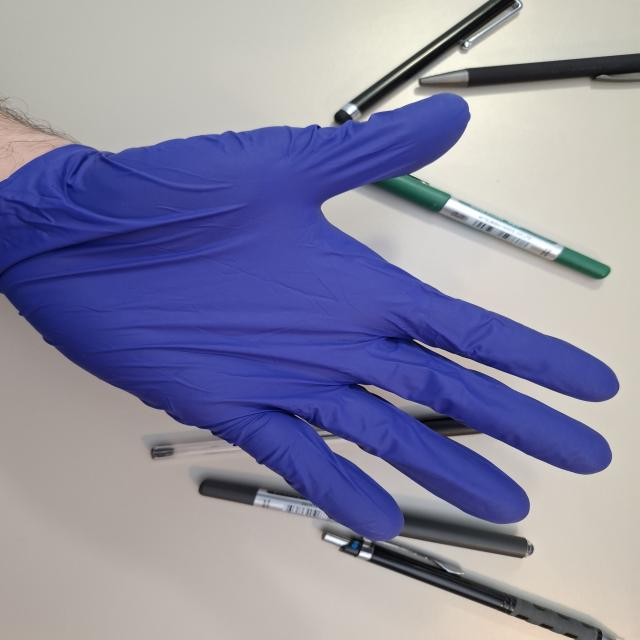glove_on: (0, 89, 624, 546)
